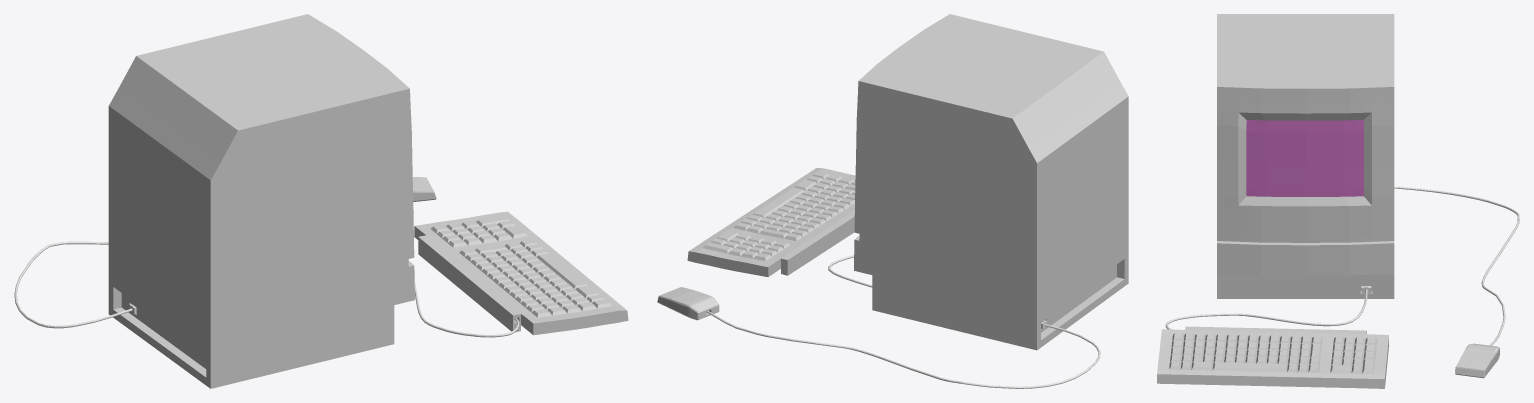
File: sm_LPmacintosh_1.fbx
The picture shows the model from 3 angles, left to right: view 1: azimuth 30°, elevation 25°; view 2: azimuth 150°, elevation 25°; view 3: azimuth 270°, elevation 25°; orthographic projection. The views are drawn at different scales.
Visible parts, largest first — view 1: sm_keyboardHighLow_low; view 2: sm_keyboardHighLow_low; view 3: sm_keyboardHighLow_low.
Part boxes in pixels (x1,y1,x2,y2): sm_keyboardHighLow_low: (14, 14, 628, 388); sm_keyboardHighLow_low: (657, 14, 1128, 388); sm_keyboardHighLow_low: (1157, 14, 1519, 388).
Bounding box in the file's own units: 0.6466 × 0.3354 × 0.5037.
